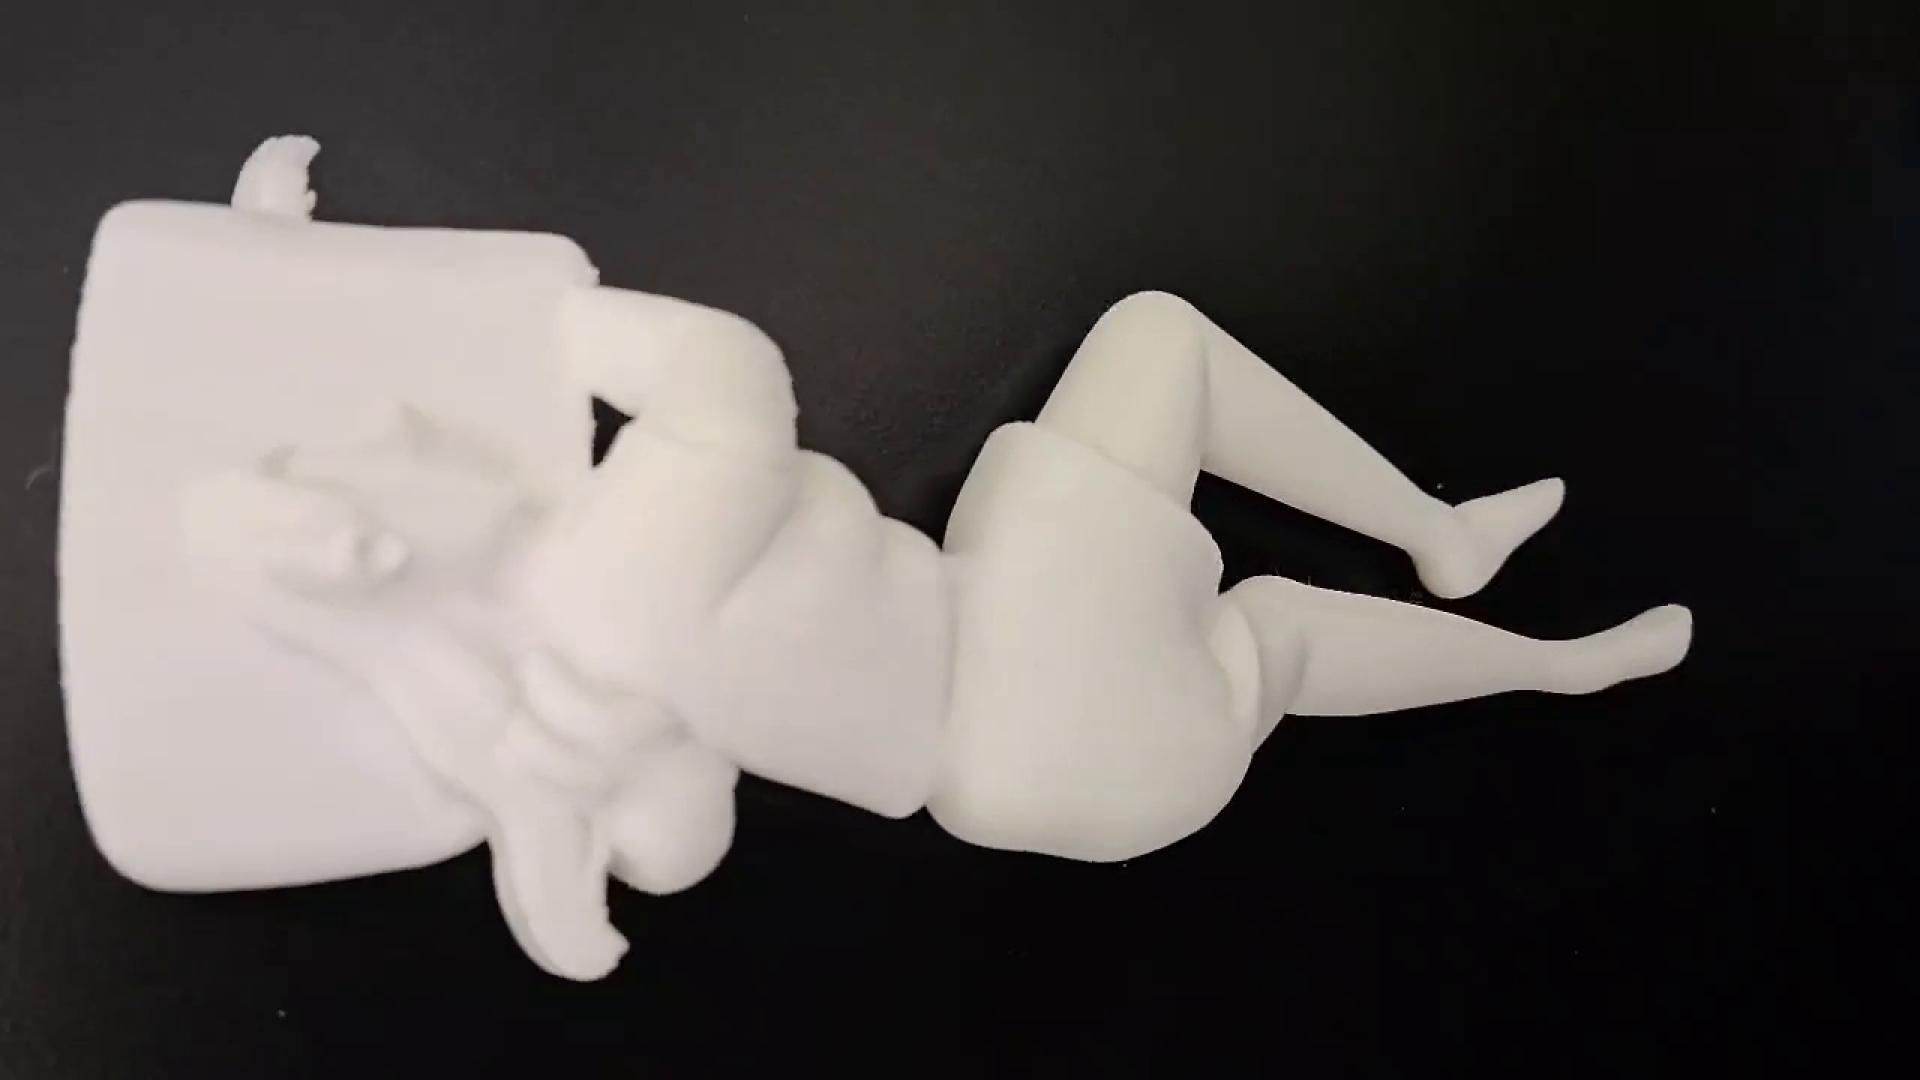Good-style: (46, 129, 1695, 976)
